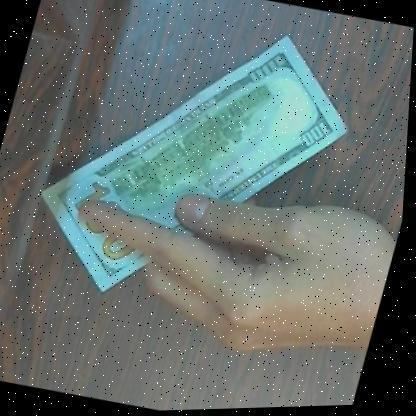dollar_back: (13, 0, 377, 339)
